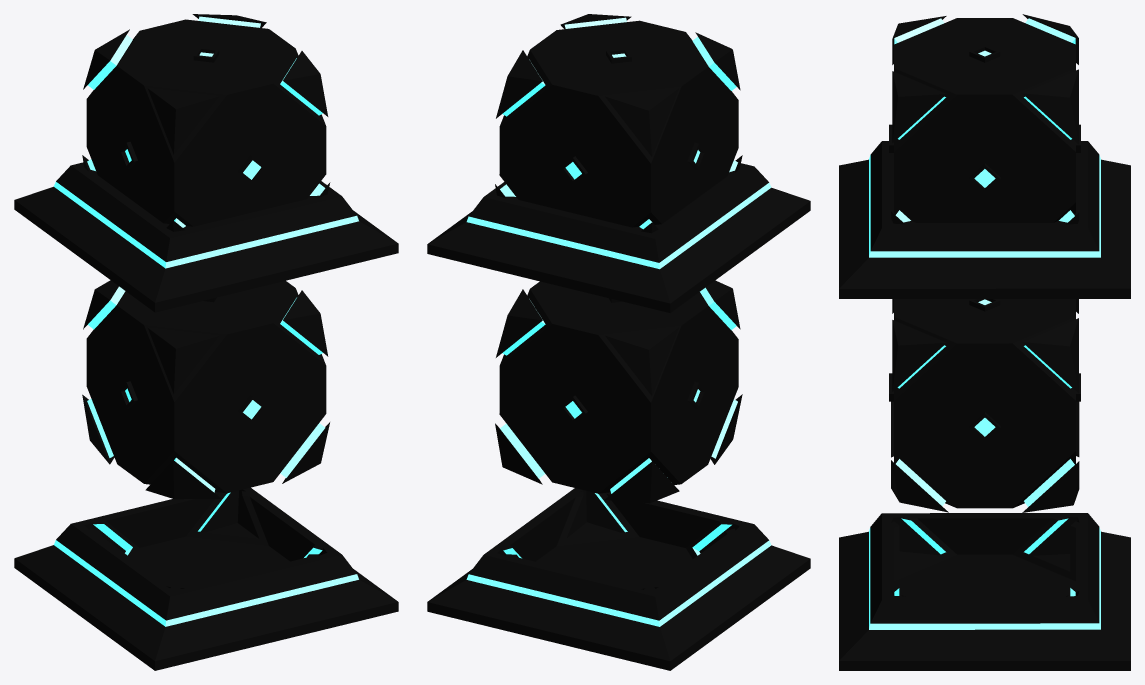
The model's file is battery_holder_and_cube.fbx.
3 renders of one model, left to right at view 1: azimuth 30°, elevation 25°; view 2: azimuth 150°, elevation 25°; view 3: azimuth 270°, elevation 25°, orthographic. The views are drawn at different scales.
Visible parts, largest first — view 1: Cube_011, Cube_009, Cube_007; view 2: Cube_011, Cube_009, Cube_007; view 3: Cube_011, Cube_007, Cube_009.
Boxes of the visible parts, <box> form: Cube_011: <box>14,14,398,312</box>; Cube_009: <box>82,280,329,499</box>; Cube_007: <box>14,487,398,670</box>; Cube_011: <box>427,14,810,312</box>; Cube_009: <box>495,280,742,503</box>; Cube_007: <box>427,488,810,670</box>; Cube_011: <box>839,14,1130,298</box>; Cube_007: <box>839,513,1130,670</box>; Cube_009: <box>889,299,1080,512</box>.
Bounding box in the file's own units: 152 × 320 × 152.
